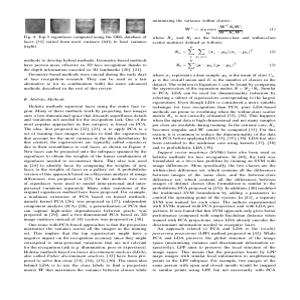image: (21, 16, 150, 34)
text: (152, 17, 279, 277), (22, 35, 150, 275)
